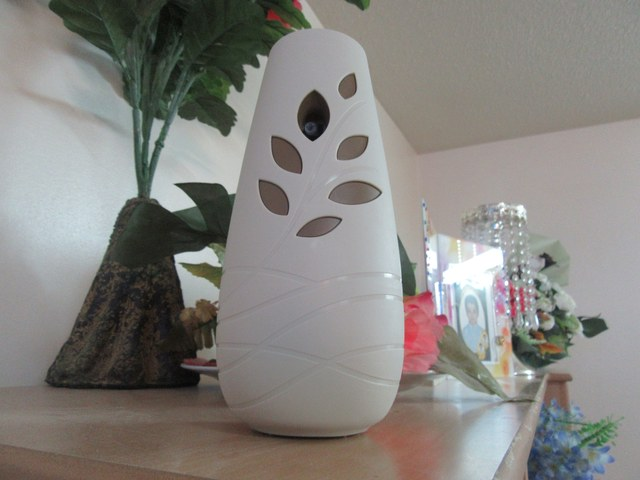Cif Surface Cleaner: (32, 24, 608, 456)
